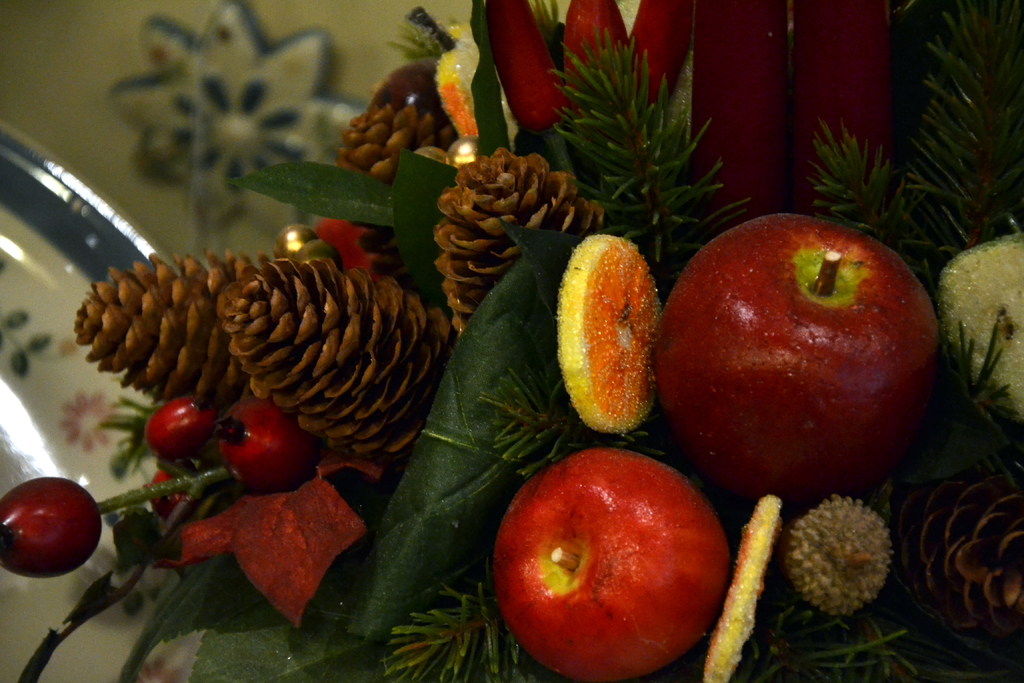Apple: (654, 204, 957, 524), (485, 442, 744, 678)
